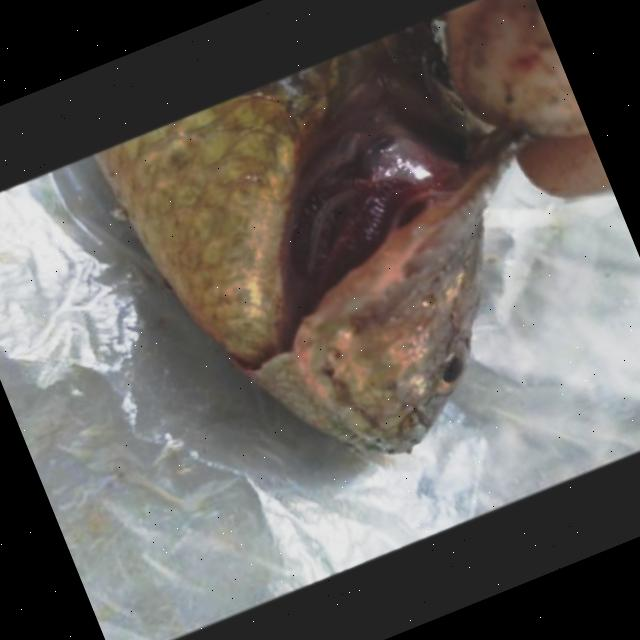Flavobacterium -Bacterial Gill Disease-: (90, 16, 532, 452), (98, 29, 521, 452)
